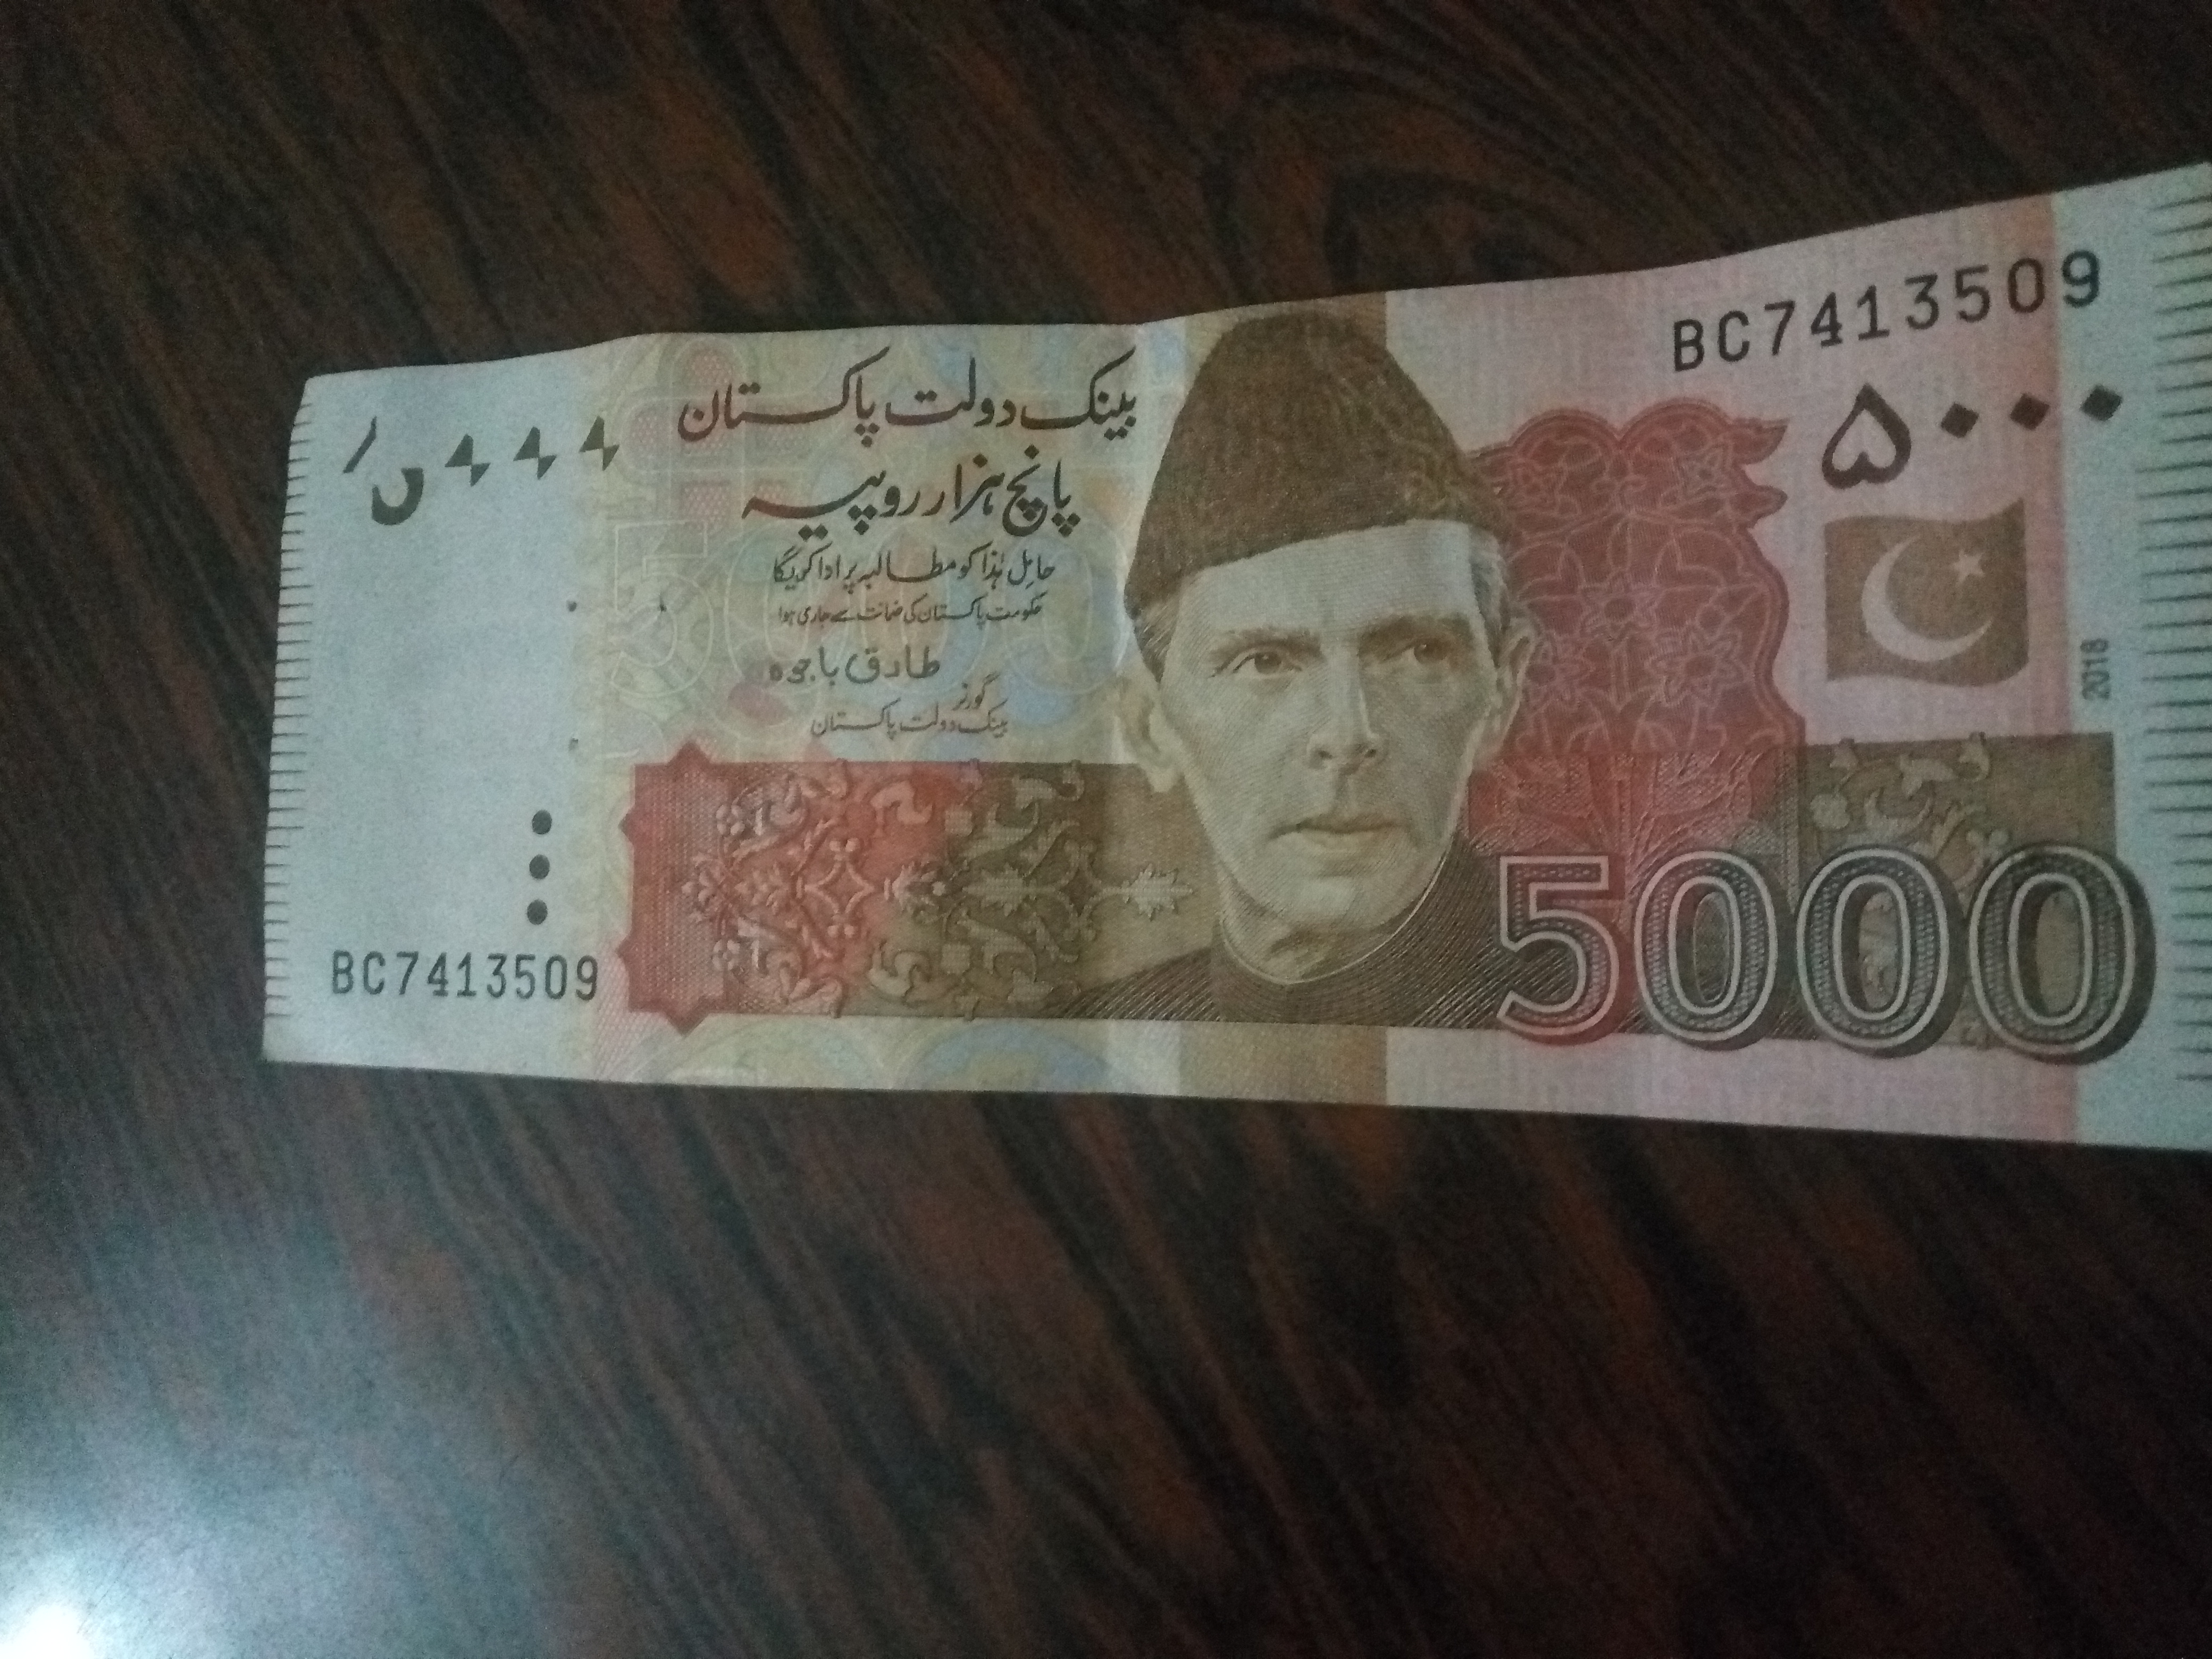5000 rupee: (237, 190, 2210, 1168)
